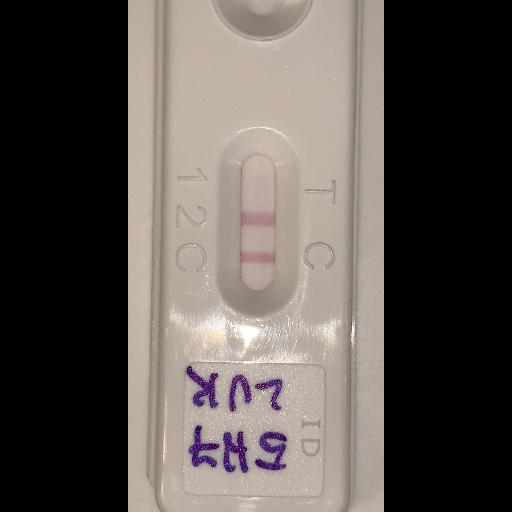Pos: (154, 0, 355, 511)
